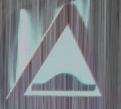Speed Breaker ahead: (15, 4, 105, 103)
